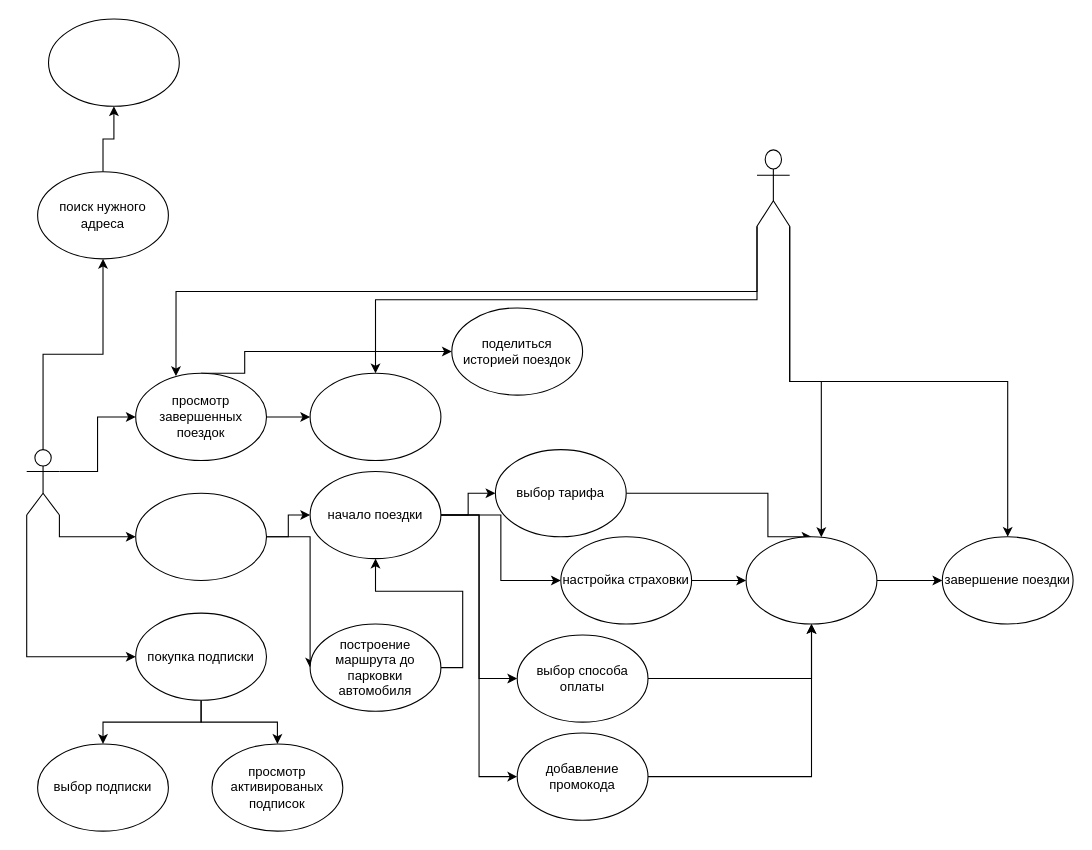
This 1092x850 diagram has some shape labels left out. The box of each missing label's shape, as (x1, y1, x2, y2) in pixels:
Actor: (26, 449, 59, 515)
Admin: (756, 149, 790, 226)
активация автомобиля: (745, 536, 877, 624)
выбор машины на интерактивной карте: (135, 492, 267, 580)
построение маршрута: (47, 18, 179, 106)
просмотр статистики по поездкам: (309, 372, 441, 461)
